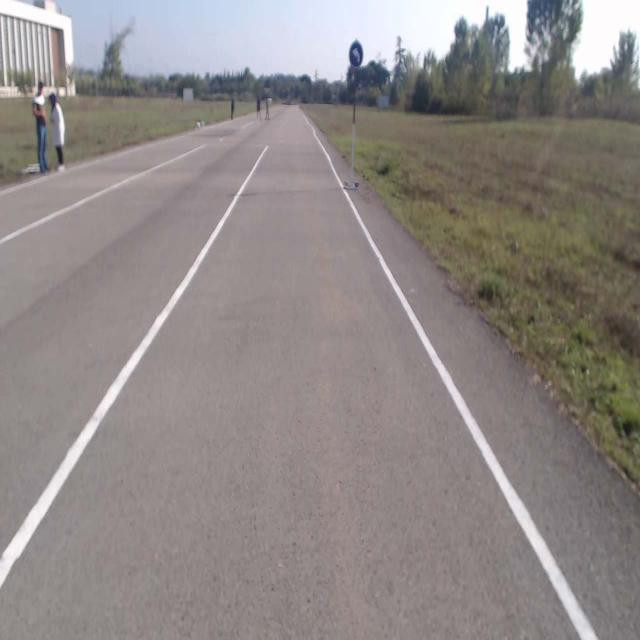sol: (350, 41, 363, 66)
